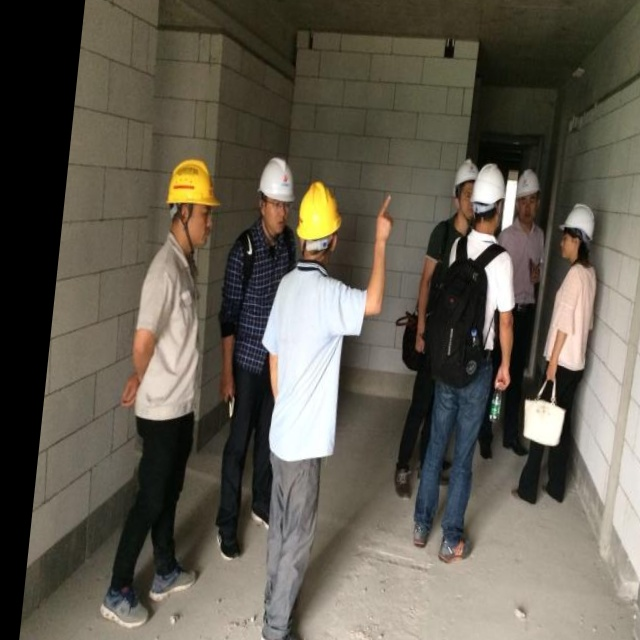Con_Casco: (160, 152, 220, 258), (289, 178, 343, 269), (251, 156, 298, 235), (555, 201, 598, 268)
Sin_Chaleco: (262, 269, 352, 460)
